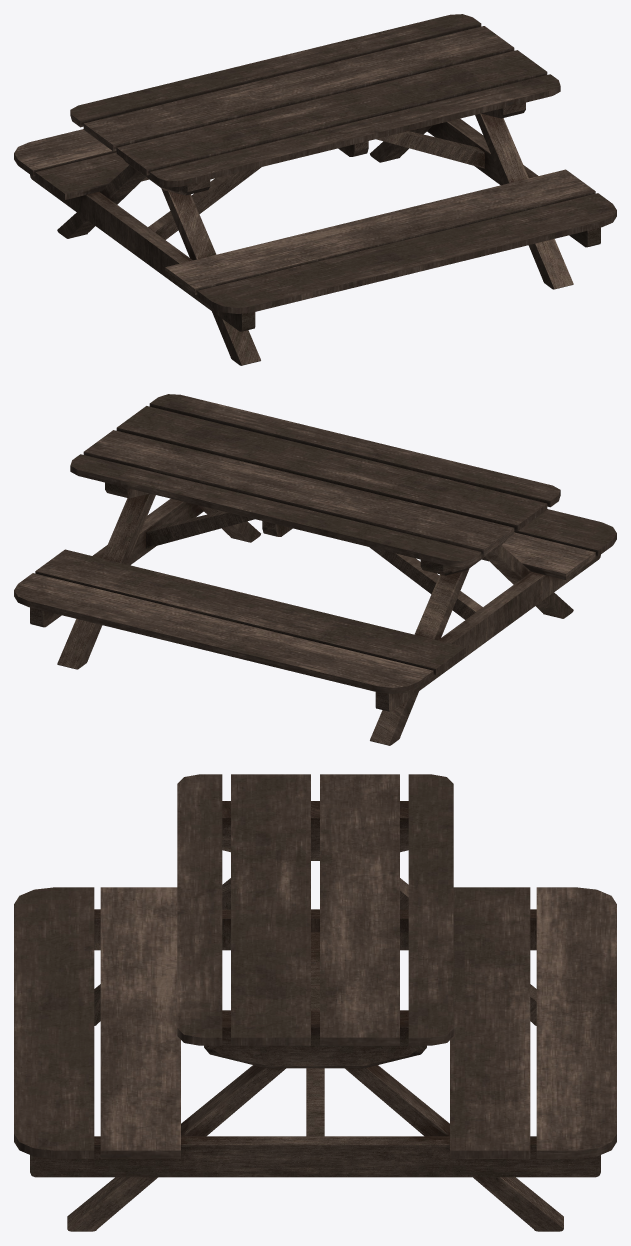
File: bench.obj
3 views of the same model, one above another, from view 1: azimuth 30°, elevation 25°; view 2: azimuth 150°, elevation 25°; view 3: azimuth 270°, elevation 25° (orthographic). The views are drawn at different scales.
Visible parts, largest first — view 1: defaultMaterial_1, defaultMaterial; view 2: defaultMaterial_1, defaultMaterial; view 3: defaultMaterial_1, defaultMaterial.
Boxes of the visible parts, left/top/right/bottom form: defaultMaterial_1: left=14, top=14, right=616, bottom=313; defaultMaterial: left=30, top=102, right=600, bottom=365; defaultMaterial_1: left=14, top=394, right=616, bottom=693; defaultMaterial: left=30, top=482, right=600, bottom=745; defaultMaterial_1: left=14, top=774, right=616, bottom=1158; defaultMaterial: left=30, top=801, right=600, bottom=1231.
Size of the model in its own units: 2 by 0.7678 by 1.94.
2 materials, 2 textured.
